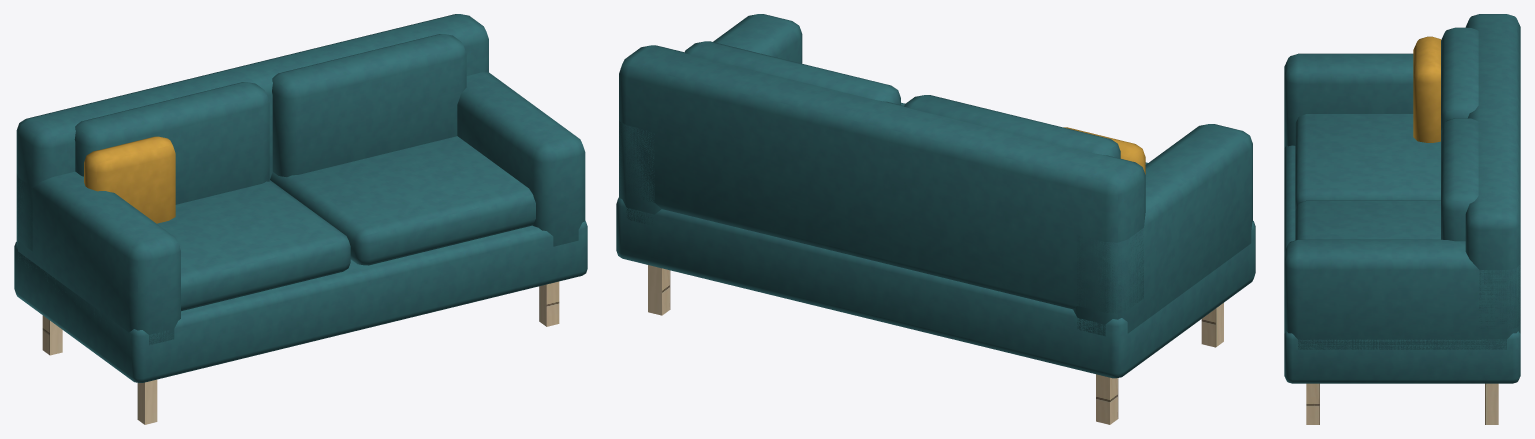
3 renders of one model, left to right at view 1: azimuth 30°, elevation 25°; view 2: azimuth 150°, elevation 25°; view 3: azimuth 270°, elevation 25°, orthographic. The views are drawn at different scales.
Visible parts, largest first — view 1: Decor_sofa_classic; view 2: Decor_sofa_classic; view 3: Decor_sofa_classic.
Boxes of the visible parts, left/top/right/bottom form: Decor_sofa_classic: left=14, top=14, right=587, bottom=424; Decor_sofa_classic: left=616, top=14, right=1255, bottom=424; Decor_sofa_classic: left=1284, top=14, right=1520, bottom=424.
Bounding box in the file's own units: 1.8 × 0.88 × 0.86.
Materials: 3 (3 with a texture image).
